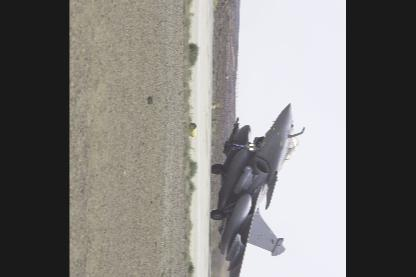RQ4: (211, 102, 307, 276)
